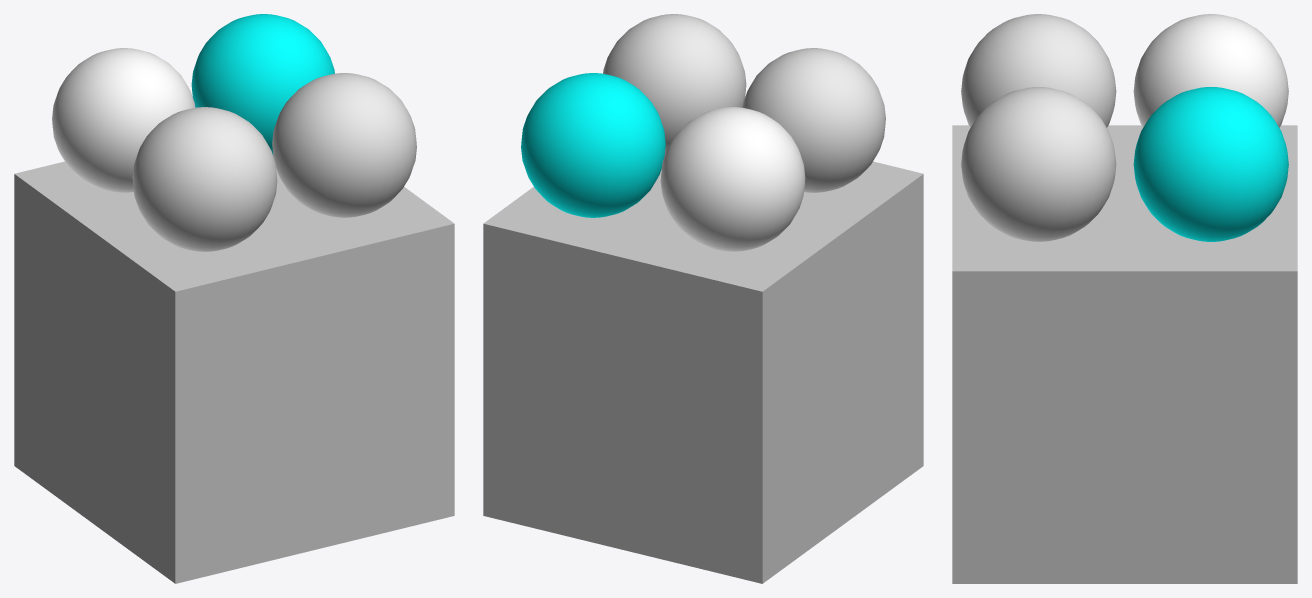
File: macbethchart.glb
3 views of the same model, side by side, from view 1: azimuth 30°, elevation 25°; view 2: azimuth 150°, elevation 25°; view 3: azimuth 270°, elevation 25° (orthographic). The views are drawn at different scales.
Parts seen in each view (by area): view 1: cube_low, Sphere.001, Sphere, Sphere.003, Sphere.002; view 2: cube_low, Sphere.002, Sphere.003, Sphere, Sphere.001; view 3: cube_low, Sphere.001, Sphere.002, Sphere, Sphere.003.
Boxes of the visible parts, x1,y1,x2,y2 form: cube_low: [14, 161, 454, 583]; Sphere.001: [272, 73, 416, 217]; Sphere: [132, 107, 277, 251]; Sphere.003: [52, 48, 195, 192]; Sphere.002: [191, 14, 334, 155]; cube_low: [483, 161, 923, 583]; Sphere.002: [521, 73, 665, 217]; Sphere.003: [660, 107, 805, 251]; Sphere: [742, 48, 885, 192]; Sphere.001: [603, 14, 746, 155]; cube_low: [952, 125, 1297, 583]; Sphere.001: [961, 87, 1116, 241]; Sphere.002: [1133, 87, 1288, 241]; Sphere: [961, 14, 1116, 127]; Sphere.003: [1133, 14, 1288, 127].
Size of what is drawn, in the model's own units: 40 by 58 by 40.
